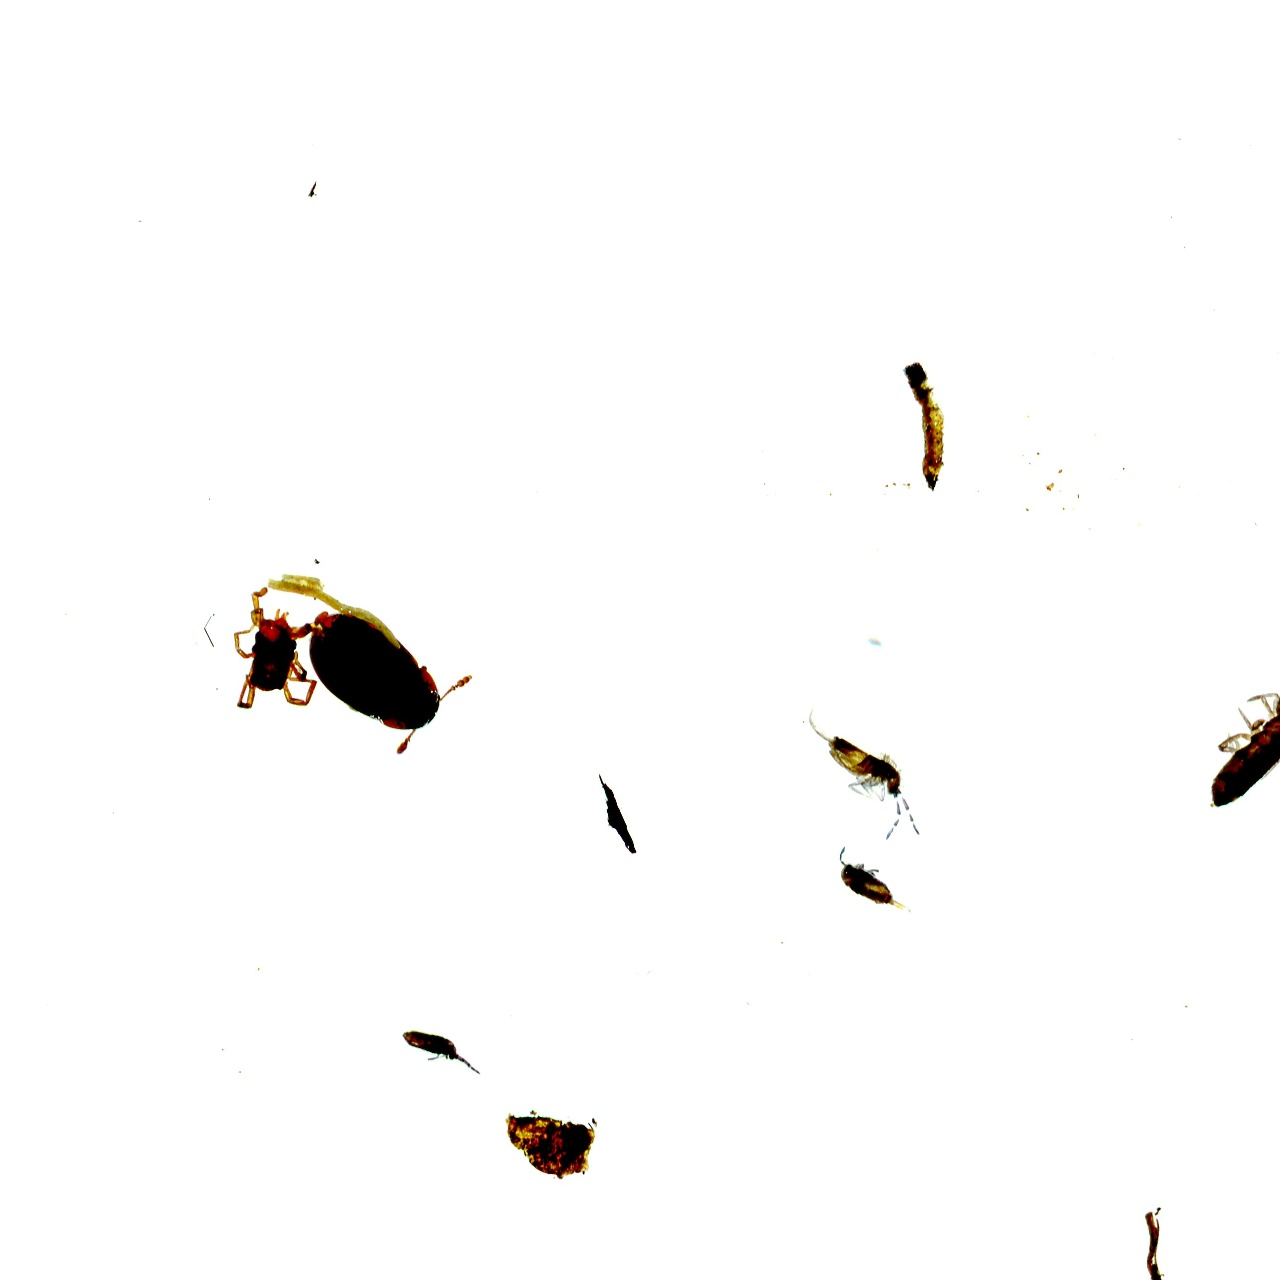arthropod: (268, 551, 496, 775), (1182, 632, 1280, 842), (804, 702, 927, 845), (219, 586, 327, 722), (836, 844, 920, 924), (390, 1022, 484, 1081)
